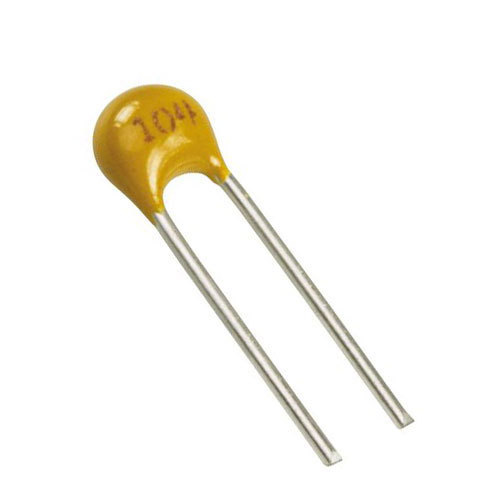capacitor: (64, 42, 316, 327)
